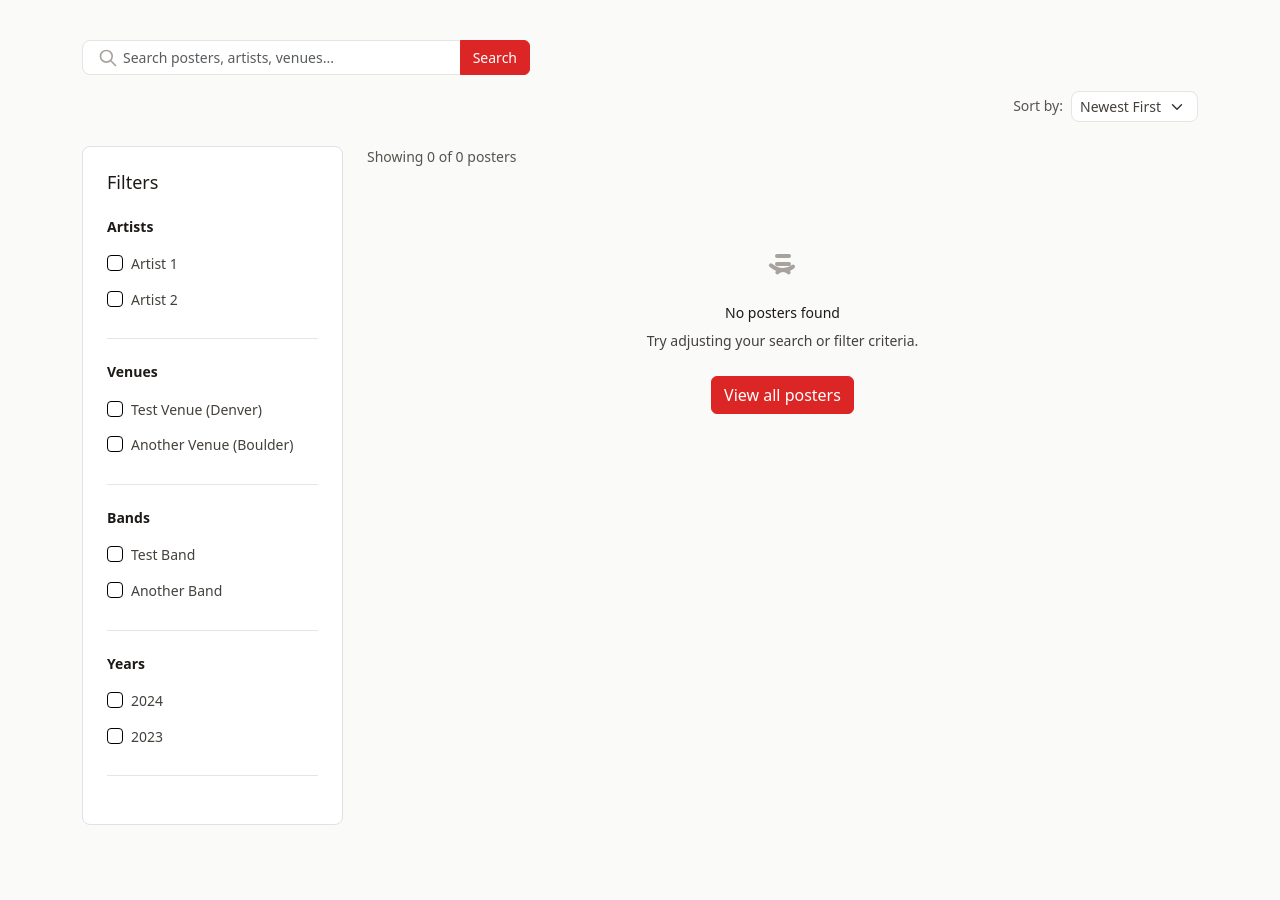
Test: Gallery › Faceted Filtering › shows active filter count badge
The width and height of the screenshot is (1280, 900).
Check: the text "Artist 1" is shown, box 131,253 -> 178,275
Click the checkbox labelled "Artist 1". click: (115, 263)
box: 107,255 -> 123,271
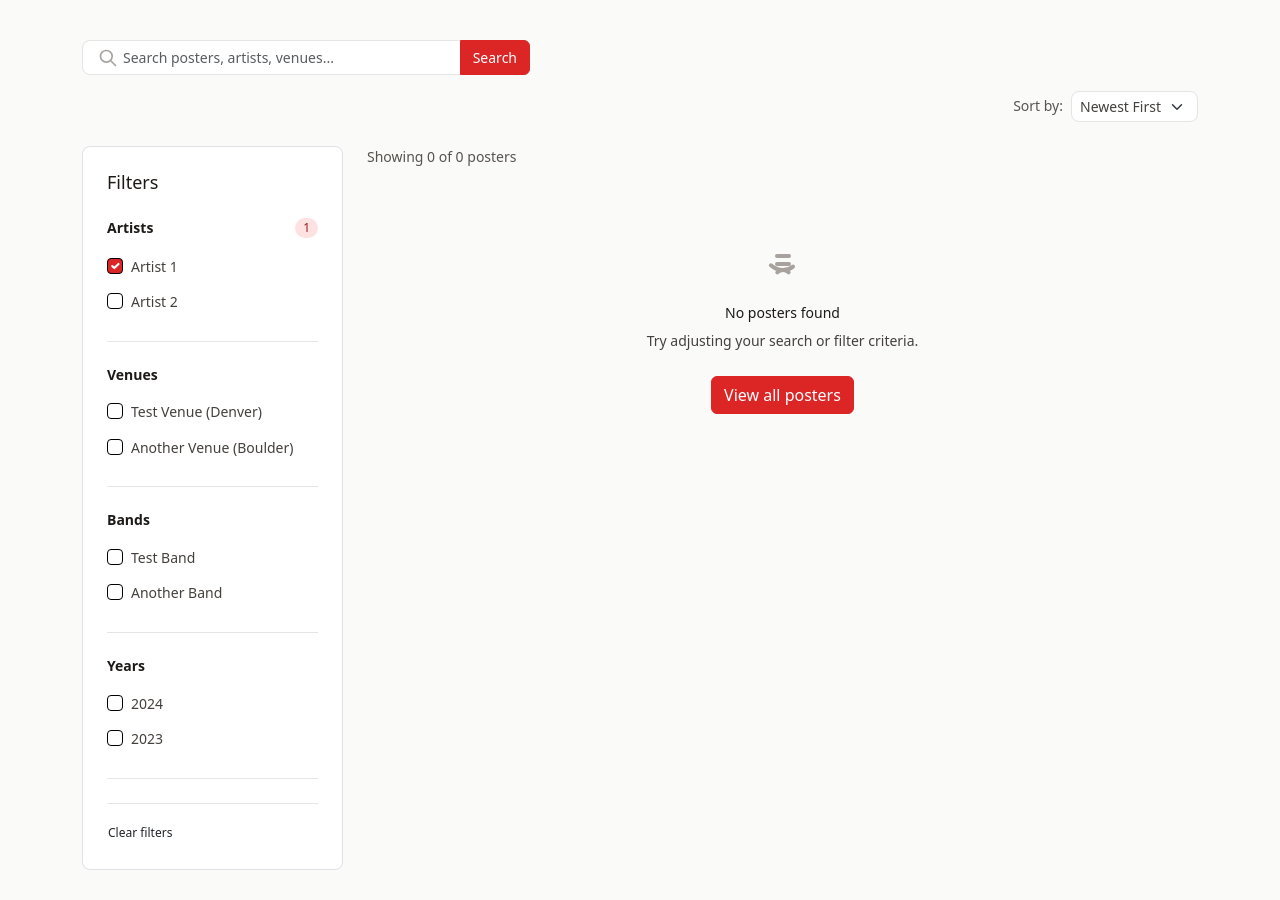
Check: the text "1" is shown, box 295,218 -> 318,238
